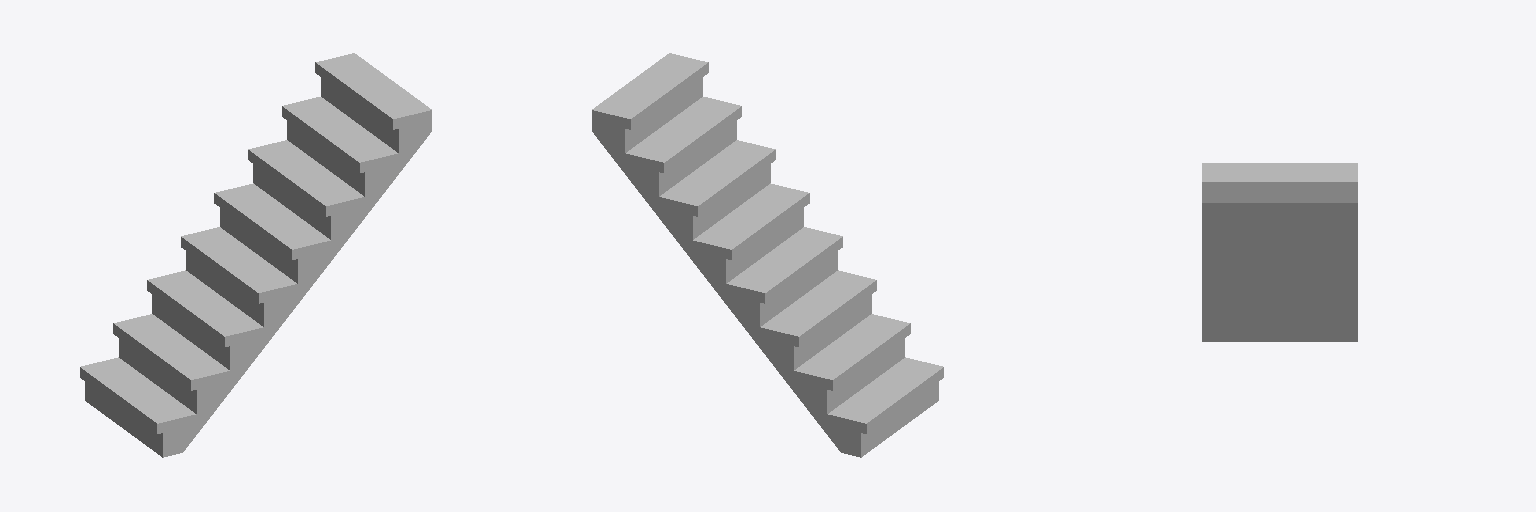
Rendered from stairsStone.obj.
The picture shows the model from 3 angles: view 1: azimuth 30°, elevation 25°; view 2: azimuth 150°, elevation 25°; view 3: azimuth 270°, elevation 25°; orthographic projection.
Visible parts, largest first — view 1: stairsStone; view 2: stairsStone; view 3: stairsStone.
Part boxes in pixels (x1,y1,x2,y2): stairsStone: (80, 53, 431, 457); stairsStone: (592, 53, 943, 457); stairsStone: (1202, 163, 1357, 341).
Size of the model in its own units: 1.02 by 1 by 0.5.